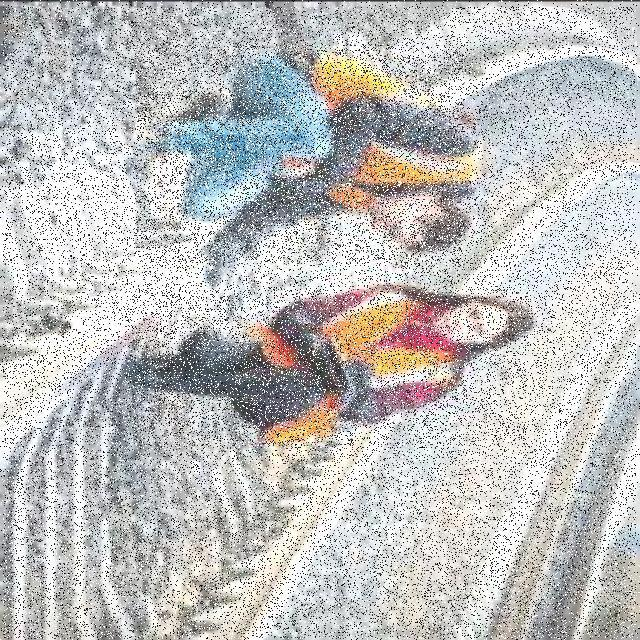danger: (136, 44, 464, 264), (132, 288, 526, 446)
rail: (3, 8, 636, 639)
